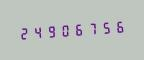five: (101, 17, 114, 37)
four: (31, 22, 44, 41)
nine: (45, 21, 58, 40)
seven: (87, 18, 100, 37)
six: (115, 16, 128, 36), (73, 19, 86, 38)
two: (17, 23, 30, 42)
zero: (59, 20, 72, 39)
